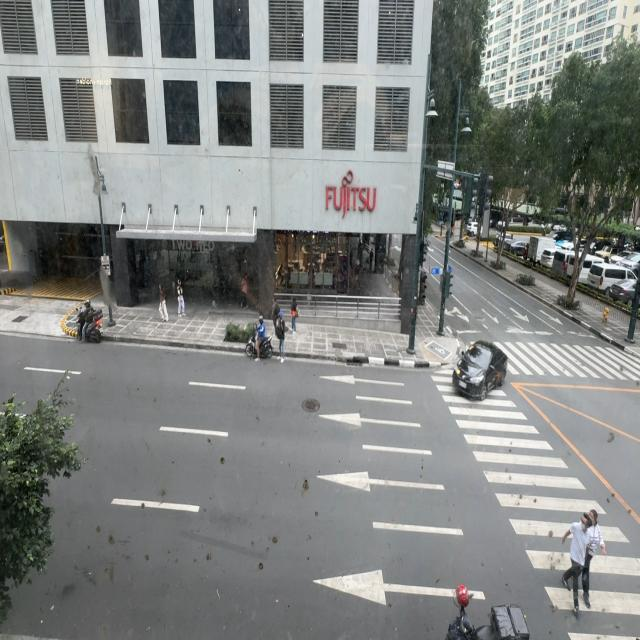crossing: (562, 510, 606, 615)
